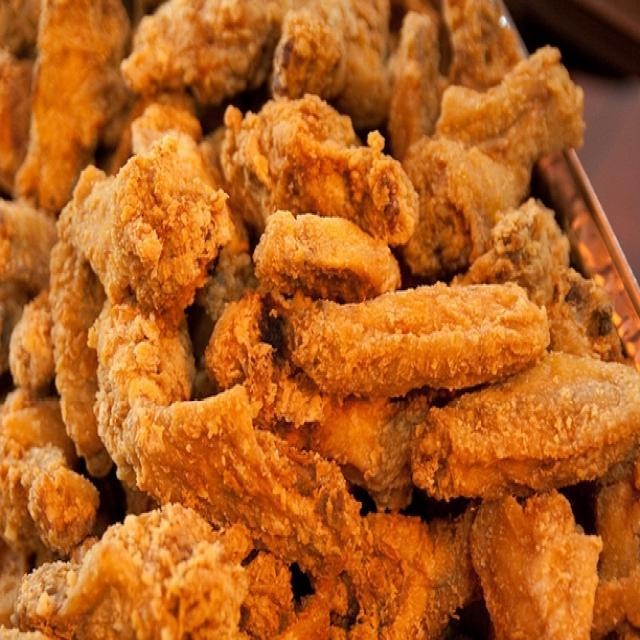Deep fried chicken wing: (22, 14, 622, 626)
